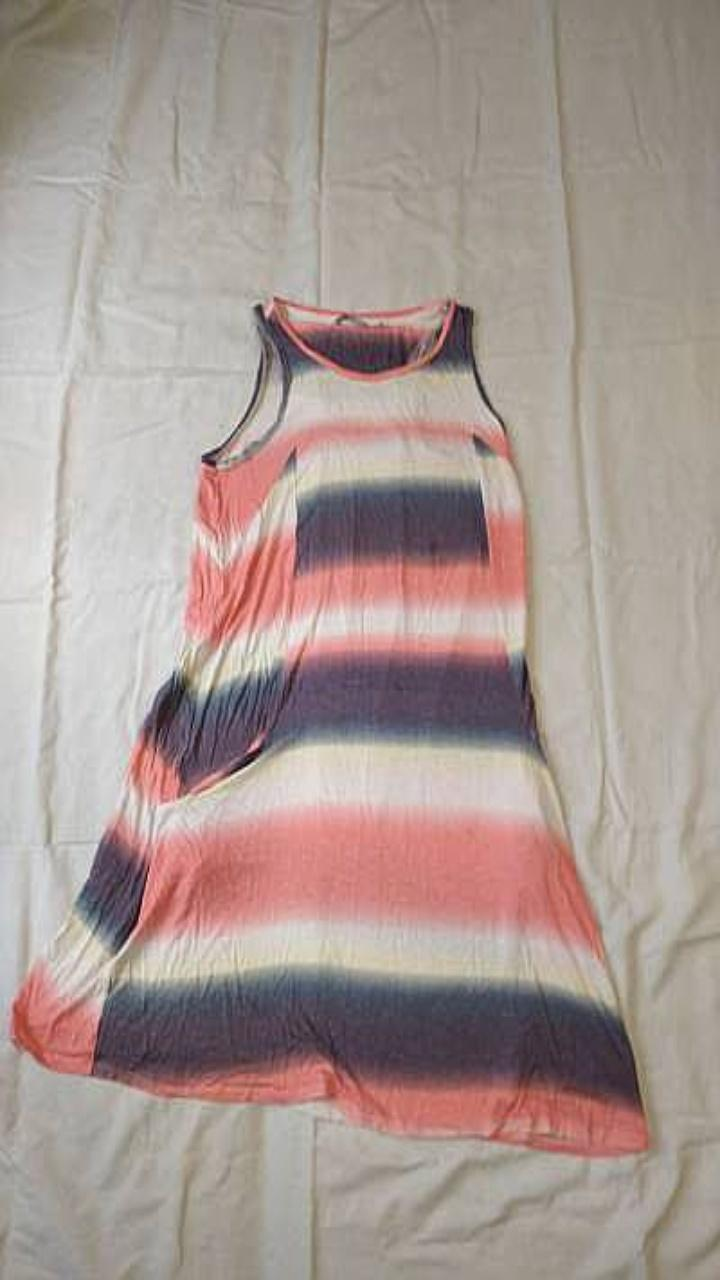Dresses: (11, 295, 648, 1155)
